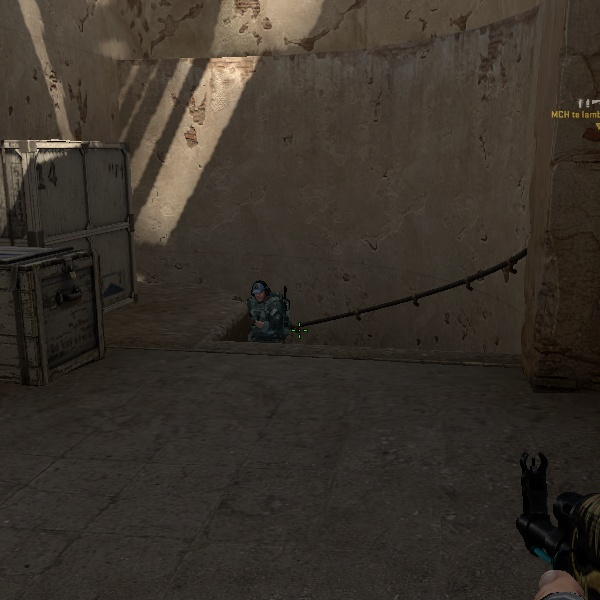ct_body: (231, 275, 297, 343)
ct_head: (245, 278, 275, 309)
